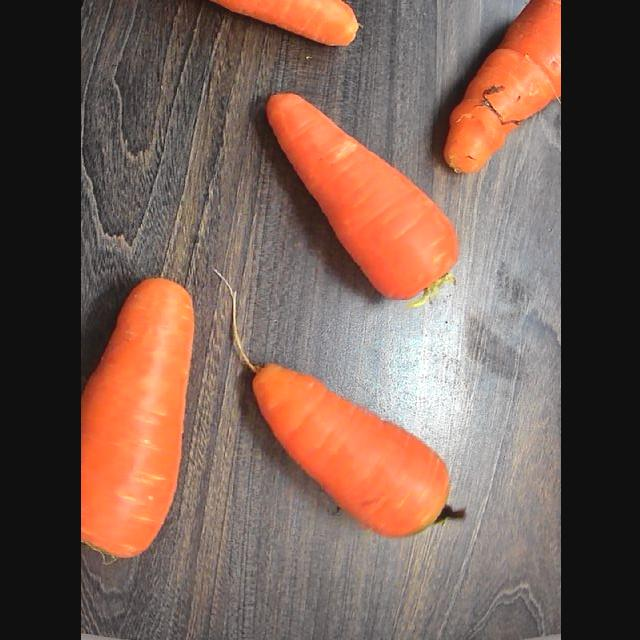zanahoria: (216, 273, 464, 537), (266, 93, 458, 307), (81, 278, 194, 558), (444, 1, 560, 173), (211, 1, 358, 45)
